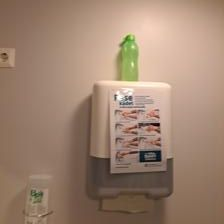bottle: (115, 31, 141, 83)
